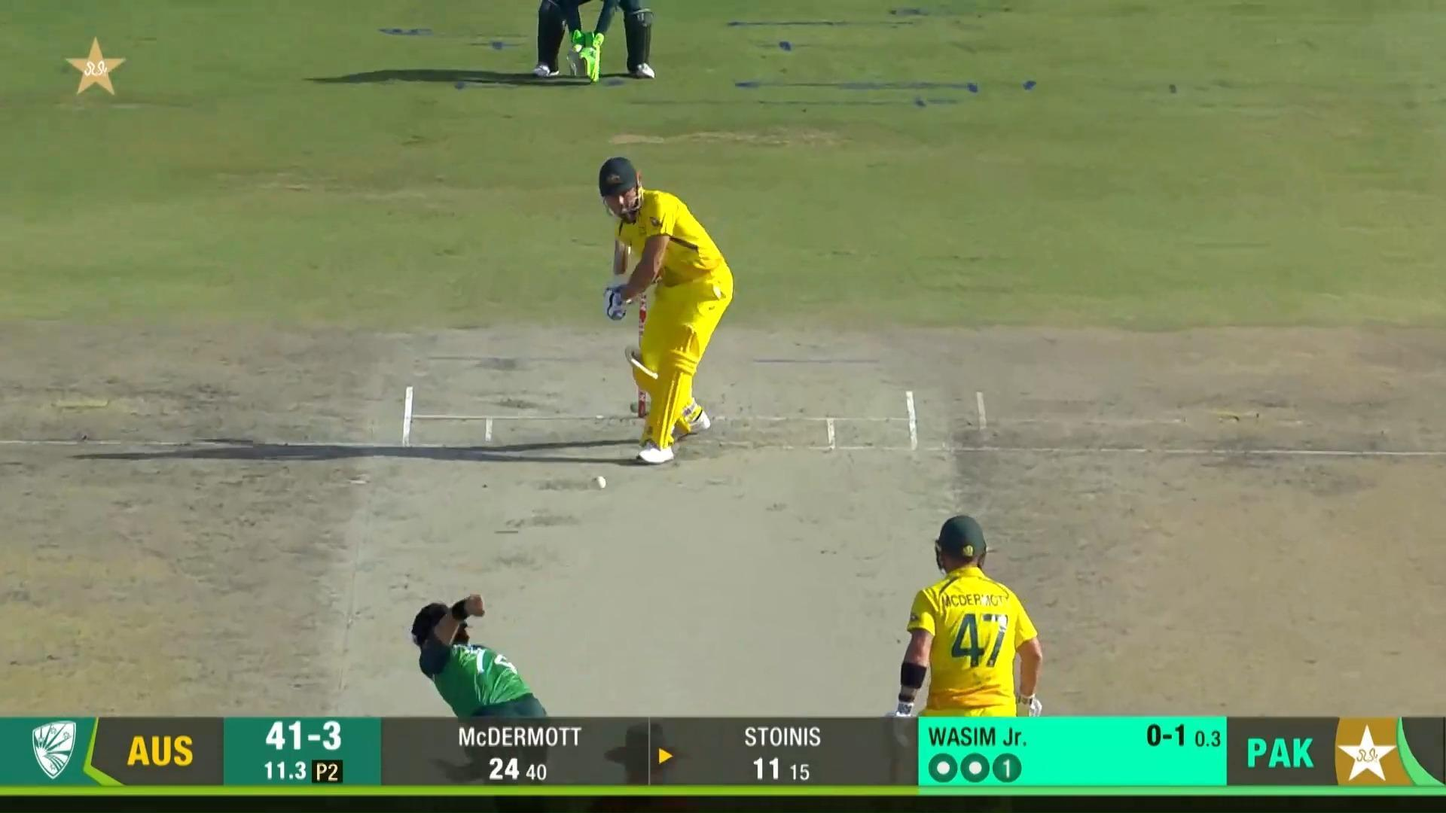BM 1: (599, 158, 734, 464)
BO: (408, 592, 558, 813)
